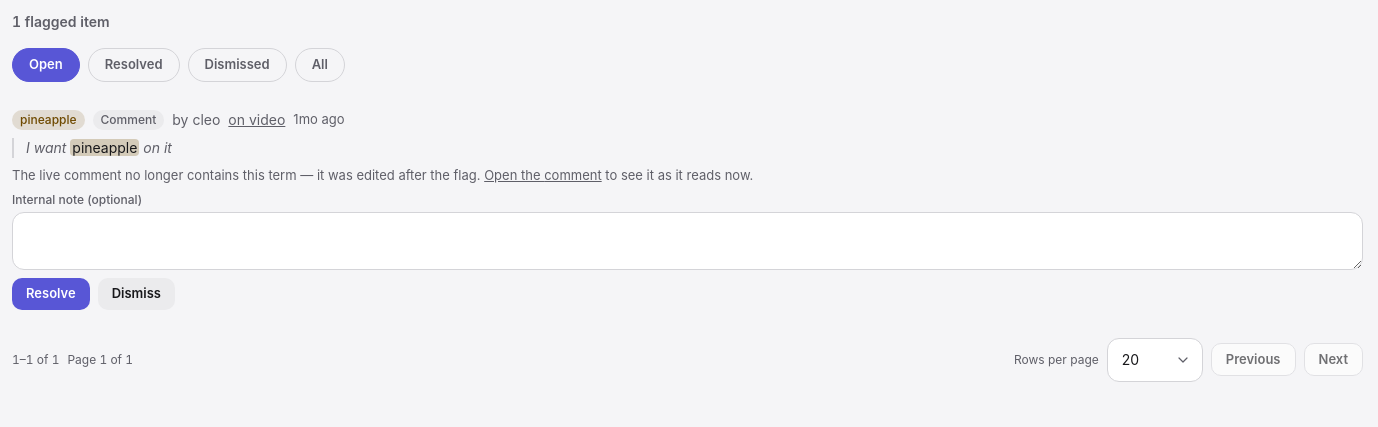
Test case: WatchedWordMatchesView › keeps the row and reports a failed triage instead of pretending it worked
This screenshot has width=1378, height=427.
Expected: the text "I want pineapple on it" is shown, [12,138,1363,158]
Click the button "Resolve": (51, 294) [12,278,90,310]
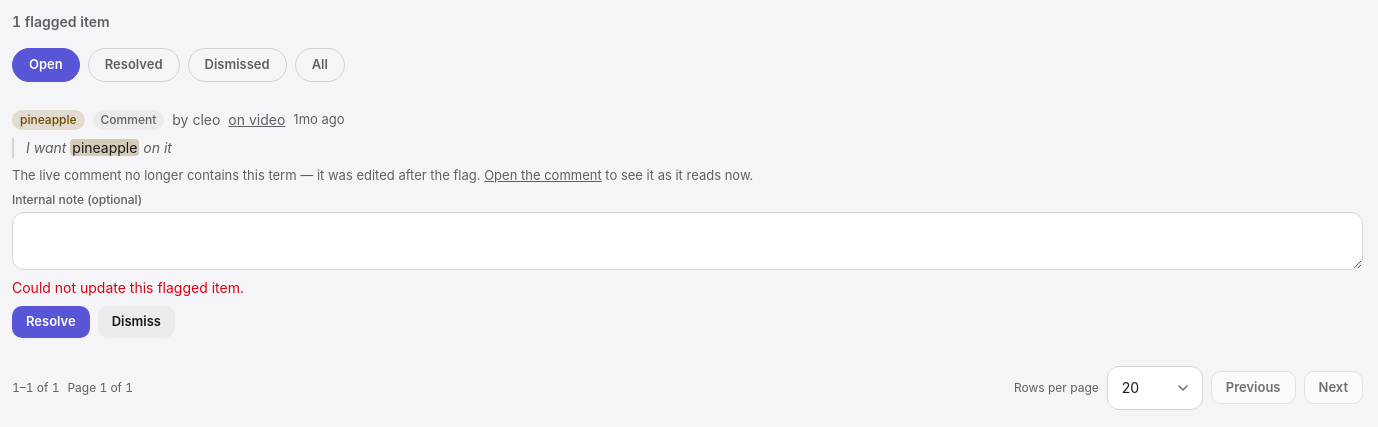
Expected: the text "I want pineapple on it" is shown, [12,138,1363,158]
Now the text "Could not update this flagged item." is shown, box [12,278,244,296]
